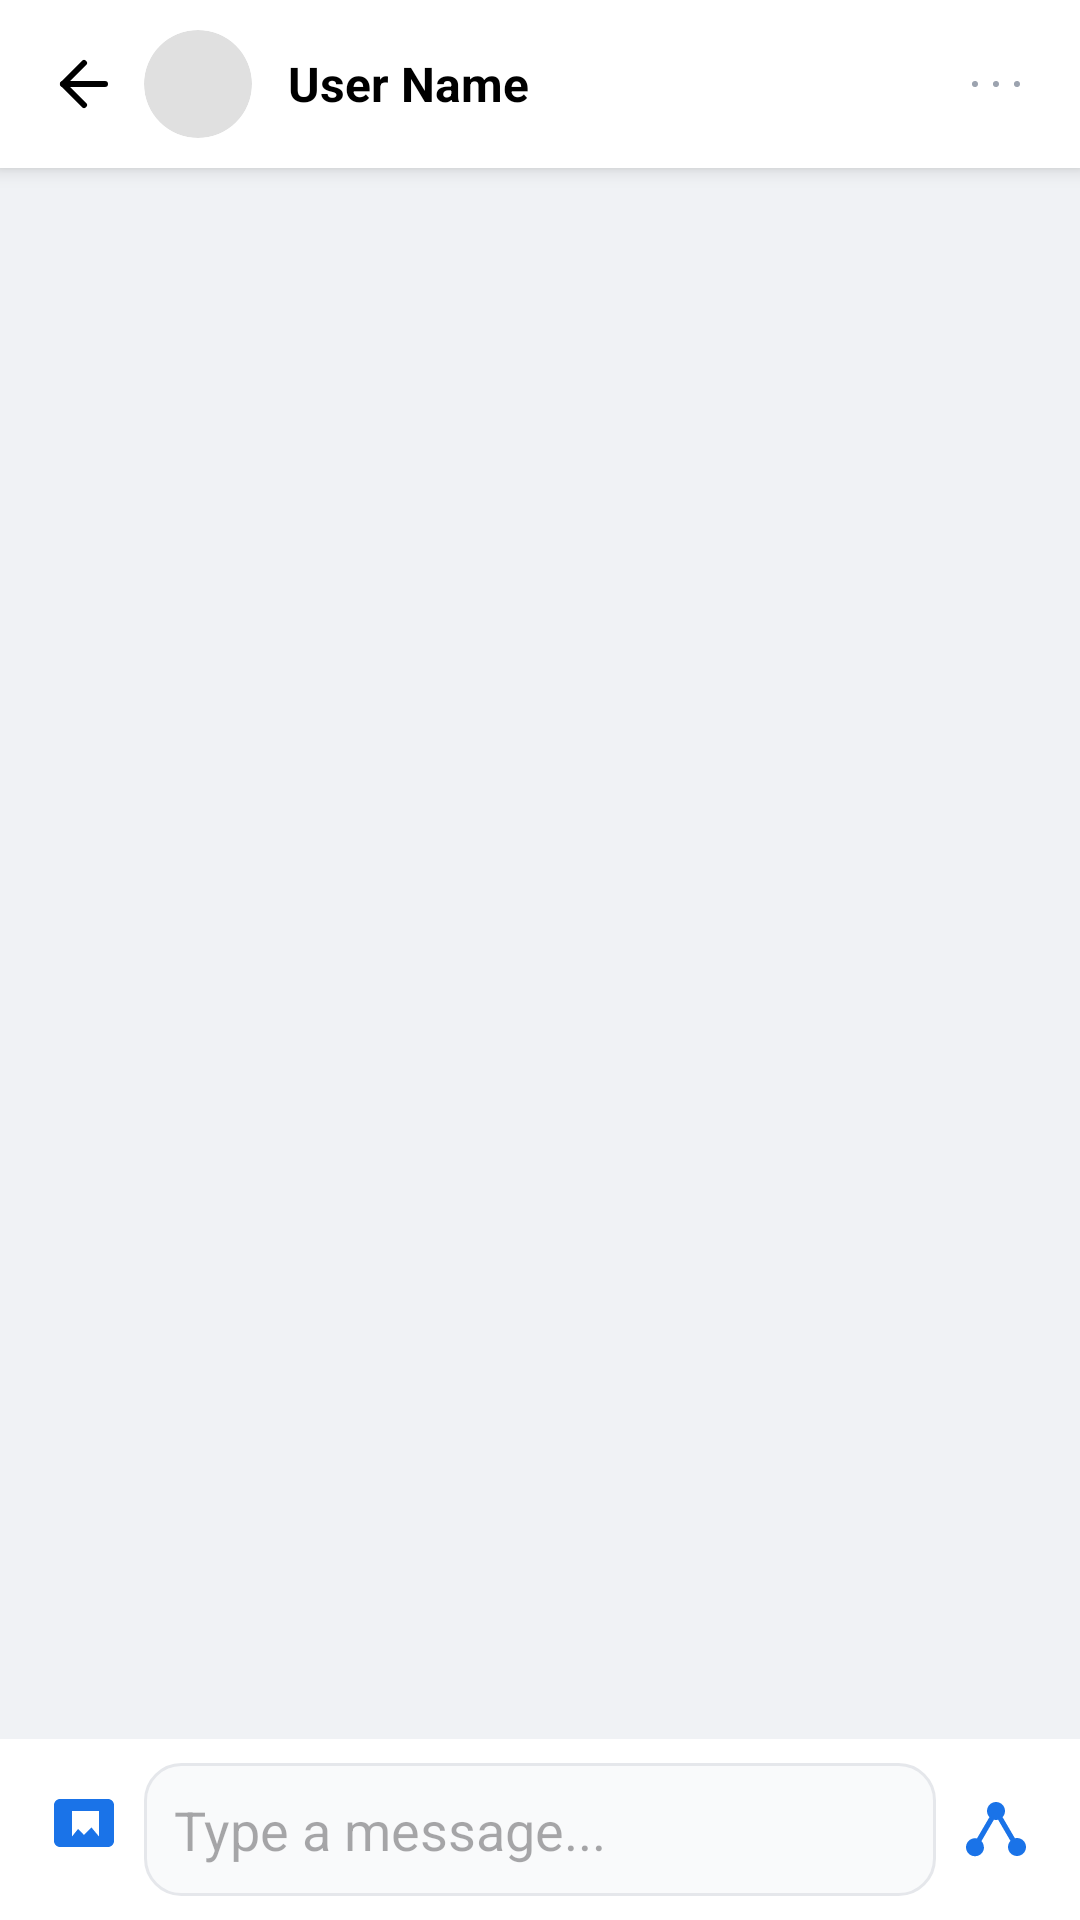

Icons on this 1080*1920 Android screen, each with the point to tap as (x,y):
arrow left: (84,84)
